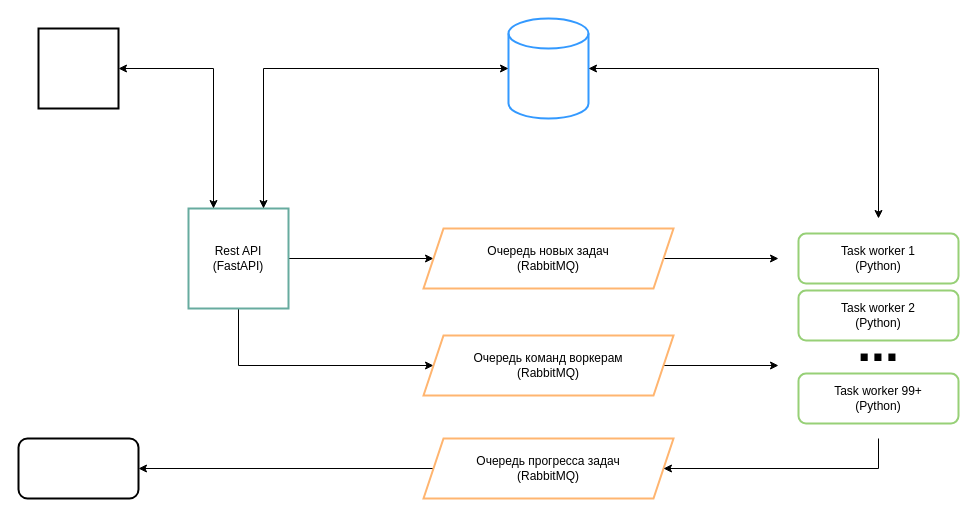
The diagram is 976 pixels wide and 516 high, and some of its shapes have lost their labels. The centre of each missing label's shape, as x and y in pixels:
DB (Postgres): the point at 548,68
Websocket clients: the point at 78,468
Личный кабинет: the point at 78,68
